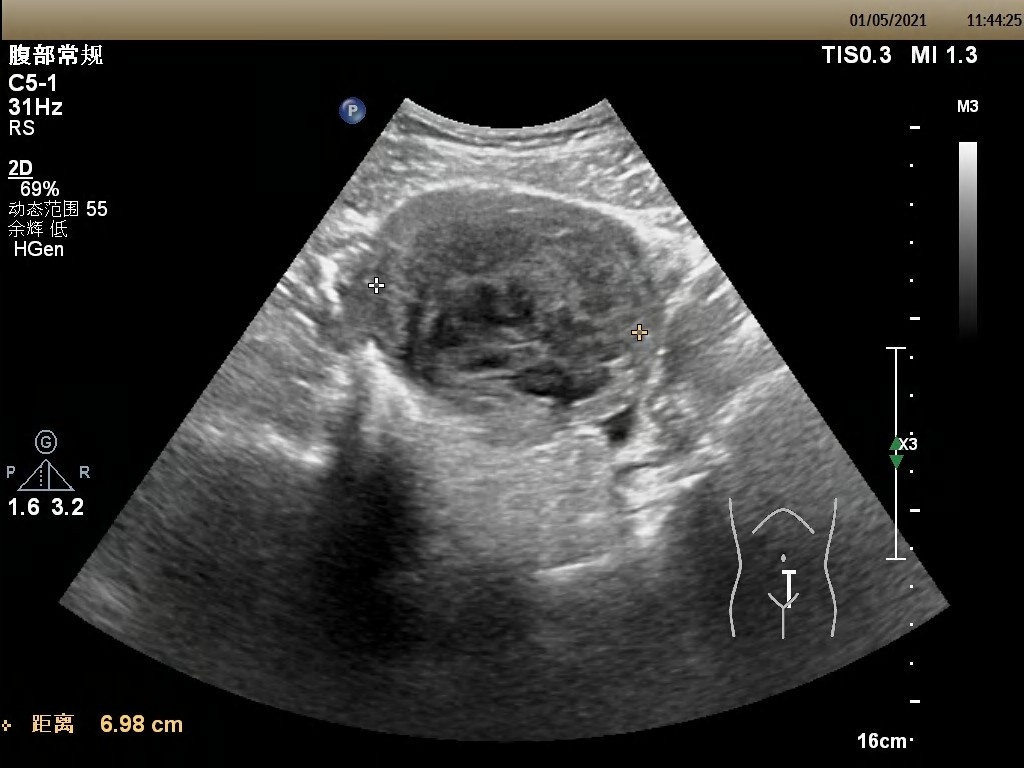肌瘤: (364, 192, 651, 416)
